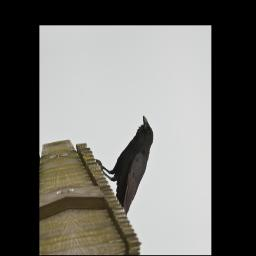Crow: (89, 114, 168, 220)
